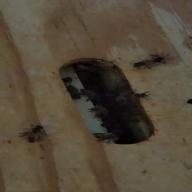Bee: (24, 120, 70, 148), (134, 90, 162, 104)
